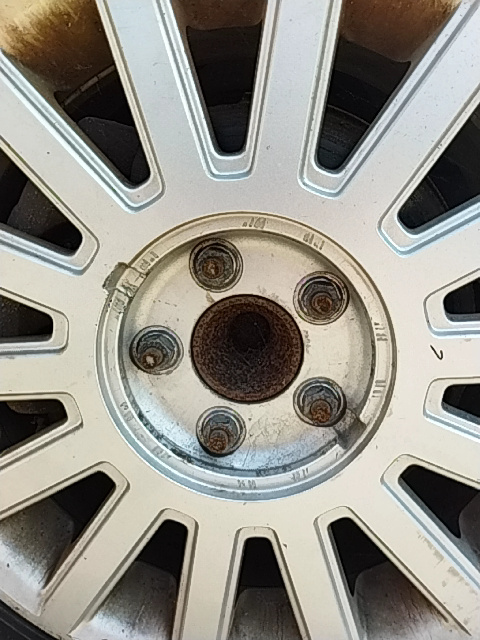l: (284, 267, 365, 341), (117, 312, 188, 383), (184, 397, 256, 465), (289, 367, 355, 435), (183, 226, 248, 294)
